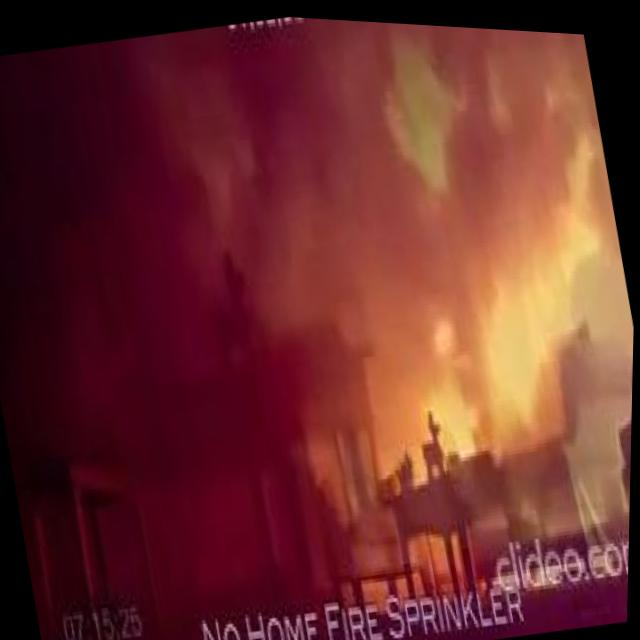fire: (285, 14, 640, 477)
